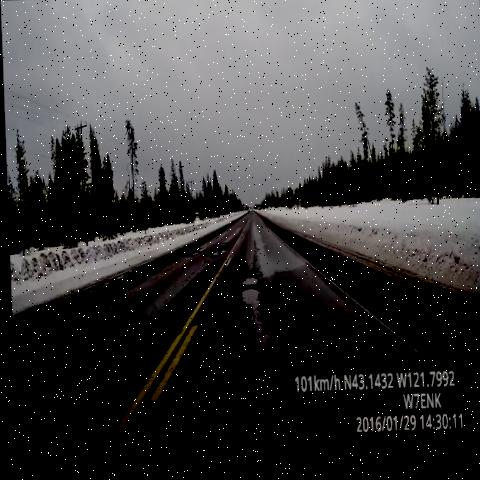pothole: (203, 303, 302, 414), (231, 263, 266, 326), (36, 316, 81, 361), (87, 291, 117, 331), (204, 240, 231, 270), (182, 238, 205, 267)
